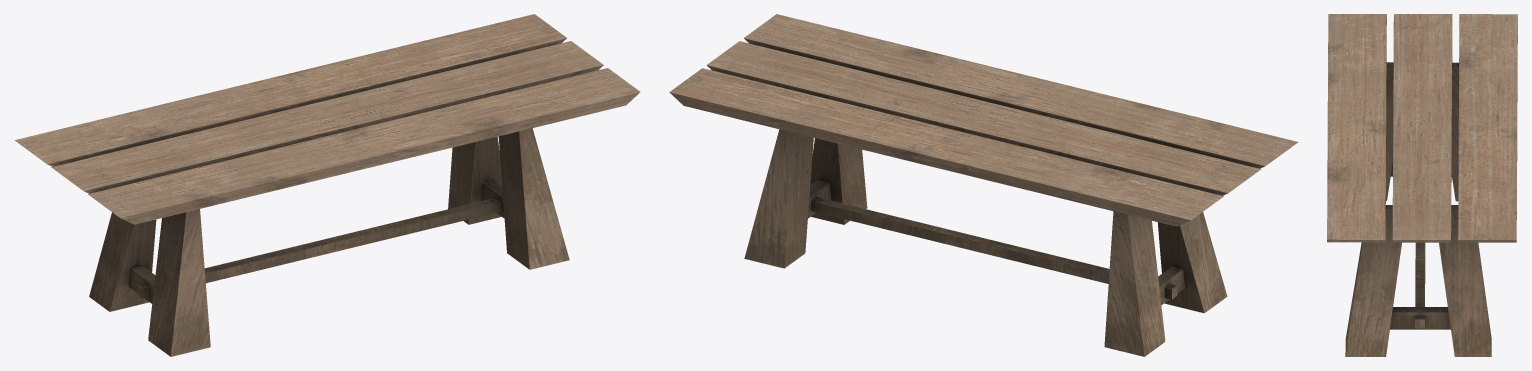
The model's file is NNJ0810006.fbx.
The picture shows the model from 3 angles, left to right: view 1: azimuth 30°, elevation 25°; view 2: azimuth 150°, elevation 25°; view 3: azimuth 270°, elevation 25°; orthographic projection. The views are drawn at different scales.
Parts seen in each view (by area): view 1: smNNJ0810006; view 2: smNNJ0810006; view 3: smNNJ0810006.
Boxes of the visible parts, <box> form: smNNJ0810006: <box>14,14,640,356</box>; smNNJ0810006: <box>669,14,1298,356</box>; smNNJ0810006: <box>1327,14,1517,356</box>.
Size of the model in its own units: 184 by 54.36 by 65.61.
1 material, 1 textured.
